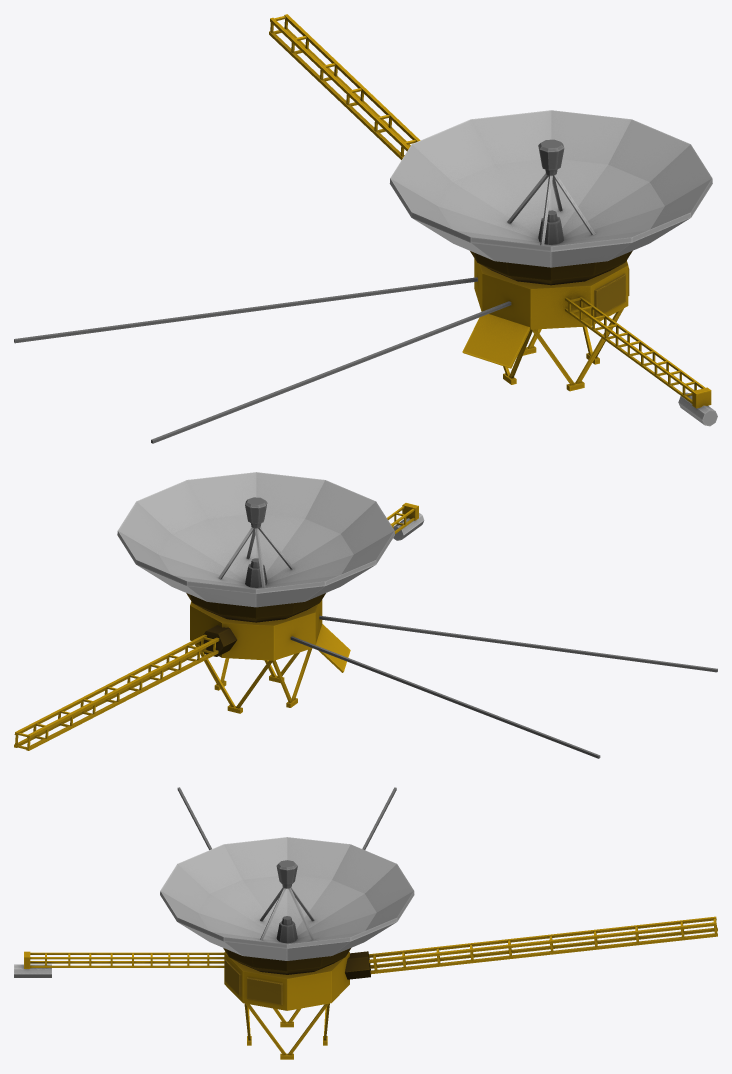
Rendered from Probe.glb.
3 views of the same model, one above another, from view 1: azimuth 30°, elevation 25°; view 2: azimuth 150°, elevation 25°; view 3: azimuth 270°, elevation 25° (orthographic). The views are drawn at different scales.
Parts seen in each view (by area): view 1: SpaceProbe_mesh; view 2: SpaceProbe_mesh; view 3: SpaceProbe_mesh.
Part boxes in pixels (bbox=[...]): SpaceProbe_mesh: bbox=[14, 14, 717, 443]; SpaceProbe_mesh: bbox=[14, 472, 717, 758]; SpaceProbe_mesh: bbox=[14, 787, 717, 1059].
Size of the model in its own units: 37.79 by 13.47 by 48.08.
1 material, 1 textured.
